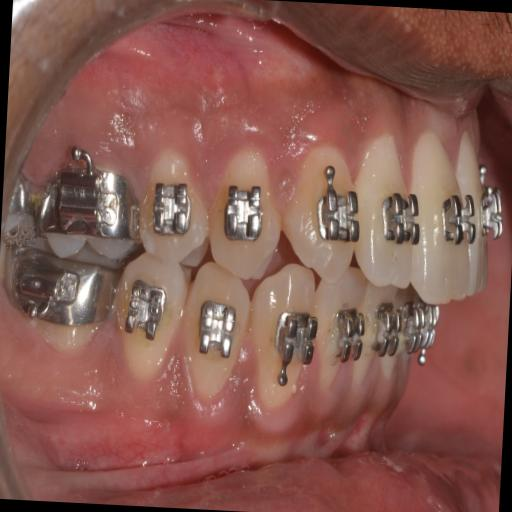correct_brace: (200, 151, 286, 282), (315, 172, 362, 260), (374, 188, 422, 254), (442, 183, 478, 264)
incorrect_brace: (352, 132, 426, 298), (220, 174, 272, 251)
